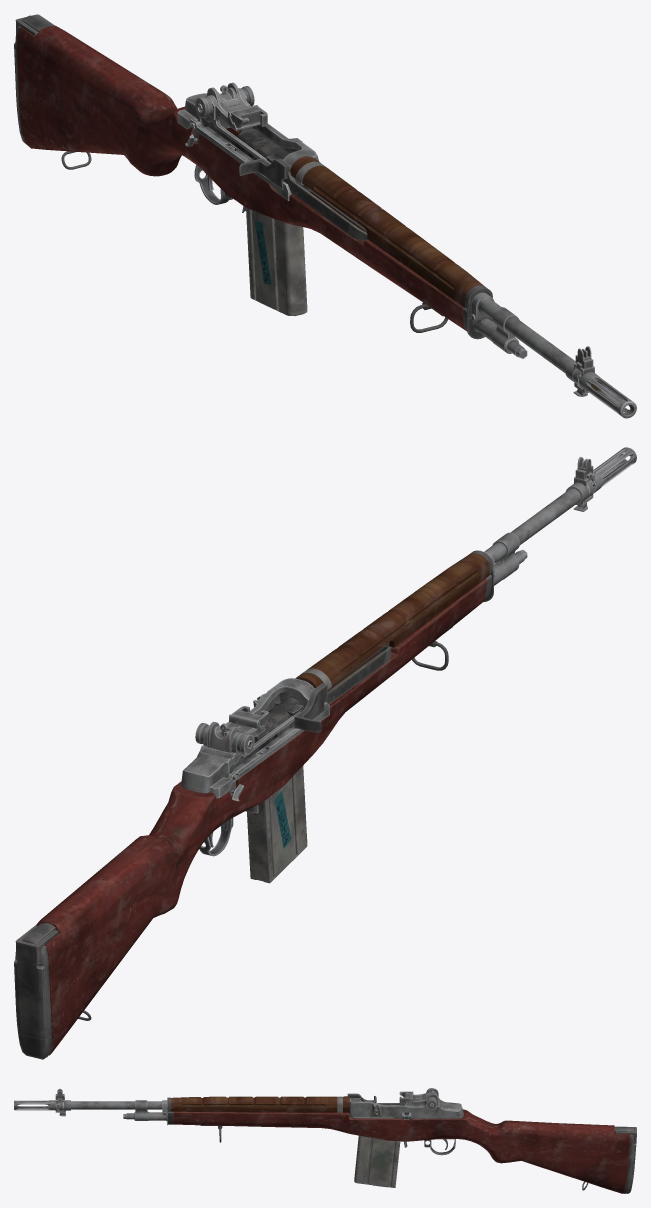
3 renders of one model, top to bottom at view 1: azimuth 30°, elevation 25°; view 2: azimuth 150°, elevation 25°; view 3: azimuth 270°, elevation 25°, orthographic. The views are drawn at different scales.
Parts seen in each view (by area): view 1: Object_2, Object_3; view 2: Object_2, Object_3; view 3: Object_2, Object_3.
Part boxes in pixels (x1,y1,x2,y2): Object_2: (14,14,492,339); Object_3: (177,82,636,418); Object_2: (14,550,493,1059); Object_3: (181,447,636,856); Object_2: (167,1093,636,1193); Object_3: (14,1088,463,1155).
Size of the model in its own units: 0.0719 by 0.2019 by 1.12.
2 materials, 2 textured.
